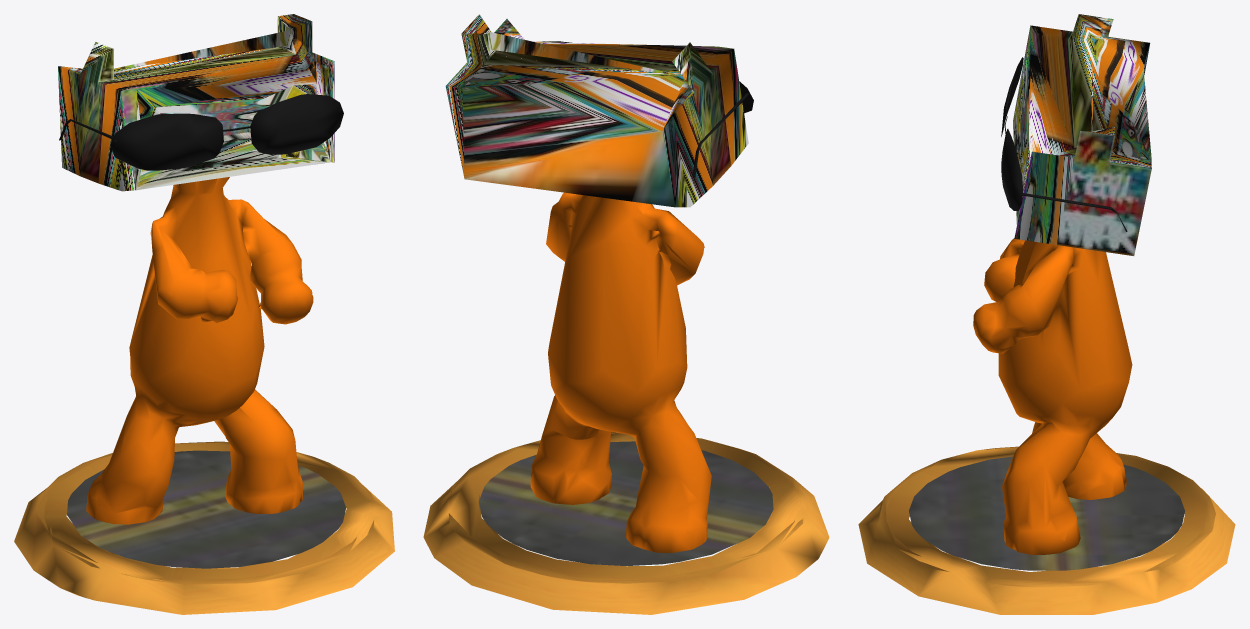
3 renders of one model, left to right at view 1: azimuth 30°, elevation 25°; view 2: azimuth 150°, elevation 25°; view 3: azimuth 270°, elevation 25°, orthographic. The views are drawn at different scales.
Size of the model in its own units: 1.42 by 2.04 by 1.43.
5 materials, 3 textured.
